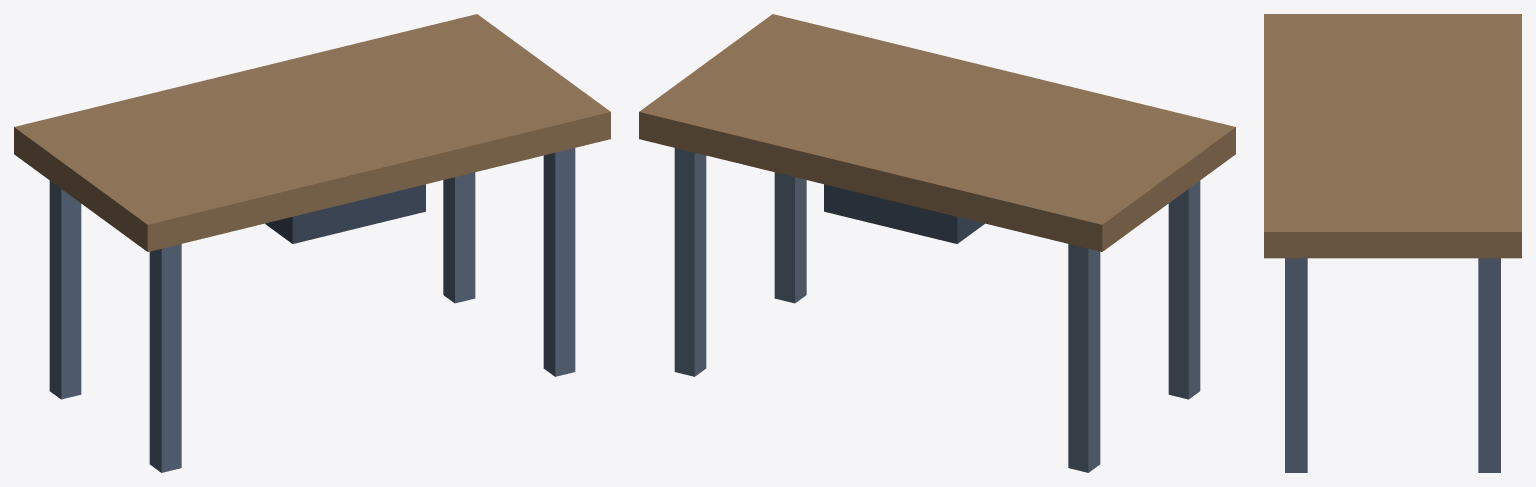
File: foldable_table.glb
The picture shows the model from 3 angles, left to right: view 1: azimuth 30°, elevation 25°; view 2: azimuth 150°, elevation 25°; view 3: azimuth 270°, elevation 25°; orthographic projection. The views are drawn at different scales.
Parts seen in each view (by area): view 1: foldable_table_top, foldable_table_leg_0.68_0.3, foldable_table_leg_-0.68_0.3, foldable_table_leg_-0.68_-0.3, foldable_table_storage, foldable_table_leg_0.68_-0.3; view 2: foldable_table_top, foldable_table_leg_0.68_-0.3, foldable_table_leg_-0.68_-0.3, foldable_table_leg_-0.68_0.3, foldable_table_storage, foldable_table_leg_0.68_0.3; view 3: foldable_table_top, foldable_table_leg_0.68_-0.3, foldable_table_leg_0.68_0.3.
Boxes of the visible parts, bbox=[...] form: foldable_table_top: bbox=[14, 14, 610, 251]; foldable_table_leg_0.68_0.3: bbox=[543, 148, 575, 376]; foldable_table_leg_-0.68_0.3: bbox=[149, 244, 181, 472]; foldable_table_leg_-0.68_-0.3: bbox=[49, 180, 81, 399]; foldable_table_storage: bbox=[265, 184, 425, 243]; foldable_table_leg_0.68_-0.3: bbox=[443, 172, 475, 303]; foldable_table_top: bbox=[639, 14, 1235, 251]; foldable_table_leg_0.68_-0.3: bbox=[674, 148, 706, 376]; foldable_table_leg_-0.68_-0.3: bbox=[1068, 244, 1100, 472]; foldable_table_leg_-0.68_0.3: bbox=[1168, 180, 1200, 399]; foldable_table_storage: bbox=[824, 184, 984, 243]; foldable_table_leg_0.68_0.3: bbox=[774, 172, 806, 303]; foldable_table_top: bbox=[1264, 14, 1521, 258]; foldable_table_leg_0.68_-0.3: bbox=[1478, 258, 1500, 472]; foldable_table_leg_0.68_0.3: bbox=[1285, 258, 1307, 472].
Size of the model in its own units: 1.6 by 0.865 by 0.8.
